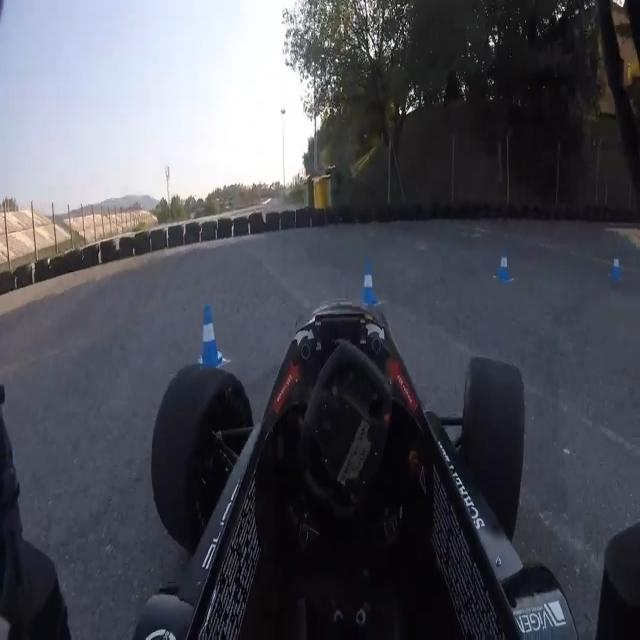blue_cone: (192, 296, 227, 372), (354, 257, 379, 311), (494, 241, 513, 287), (609, 252, 624, 287)
